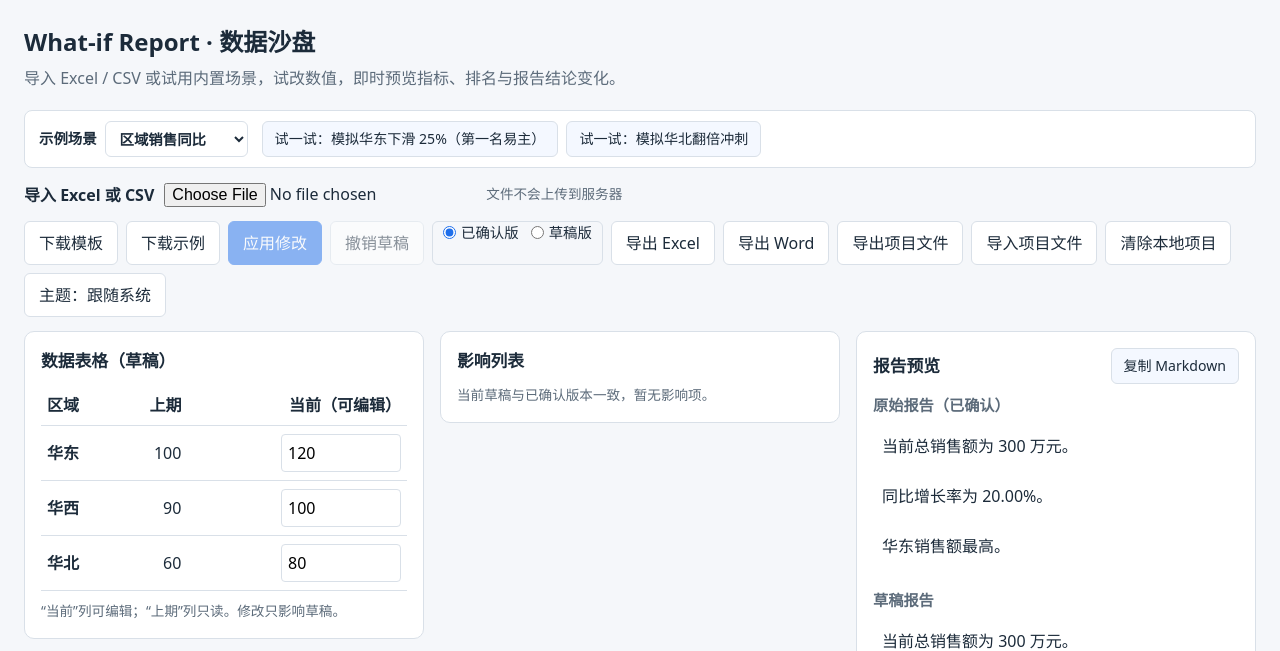
impact preview › applies the draft and clears all impacts
The width and height of the screenshot is (1280, 651).
Replace the text in the number field named "华东当前销售额" with "90" at (341, 453), box left=281, top=434, right=401, bottom=472
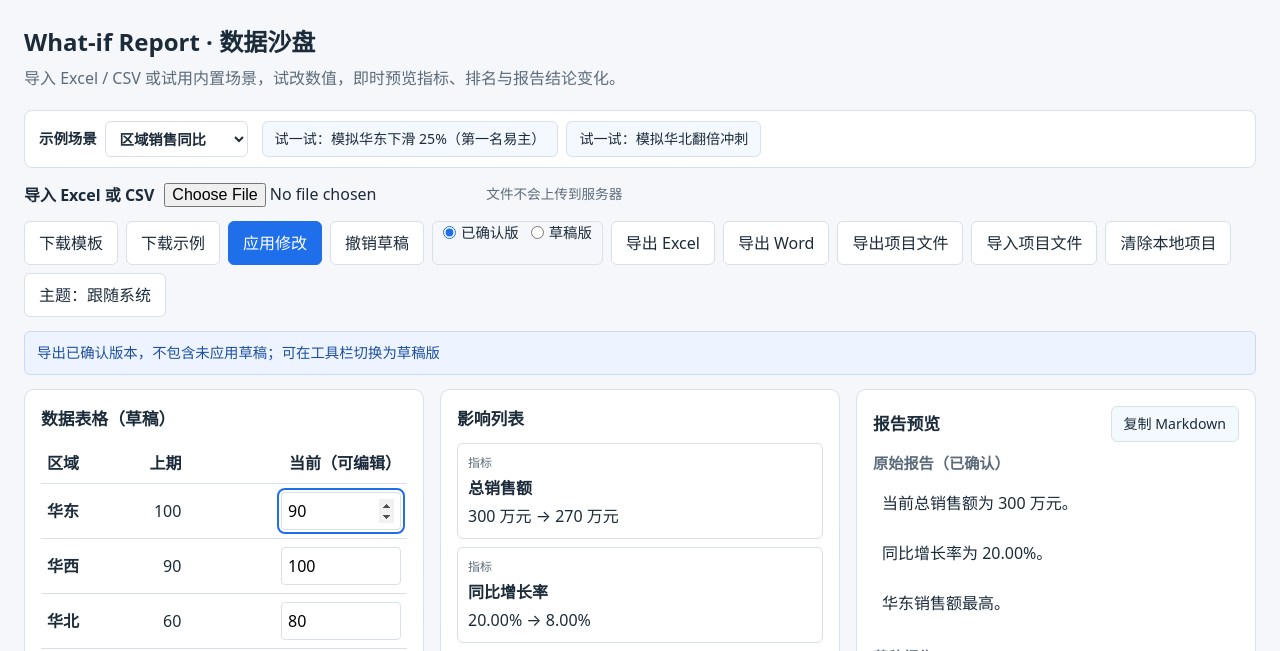
Expected: the text "300 万元 → 270 万元" is shown, left=468, top=504, right=619, bottom=528
Click the button "应用修改".
click(275, 243)  # box left=228, top=221, right=322, bottom=265
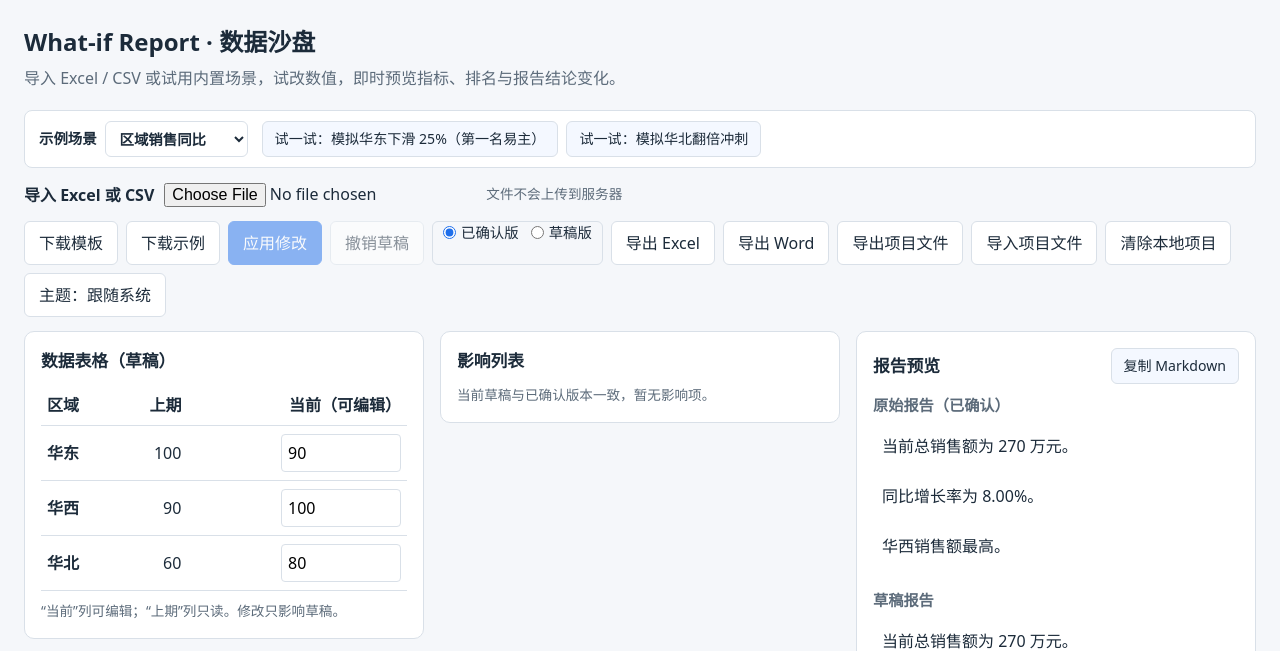
Expected: the text "当前草稿与已确认版本一致，暂无影响项。" is shown, left=457, top=385, right=715, bottom=404
Expected: the button "应用修改" is disabled, left=228, top=221, right=322, bottom=265
